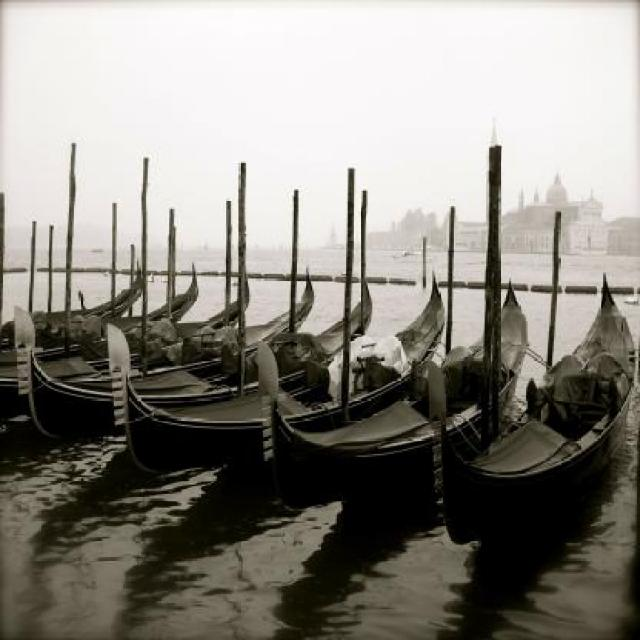ship: (107, 272, 444, 482), (15, 276, 374, 444), (257, 278, 526, 494), (426, 271, 634, 544)
